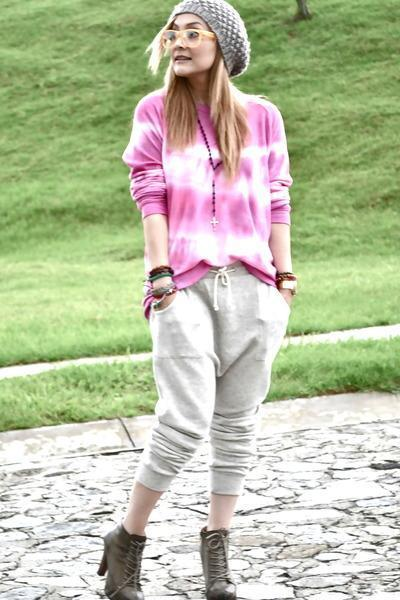hat: (180, 0, 250, 76)
jacket: (122, 84, 292, 283)
pants: (132, 256, 299, 500)
shoe: (116, 527, 254, 599)
